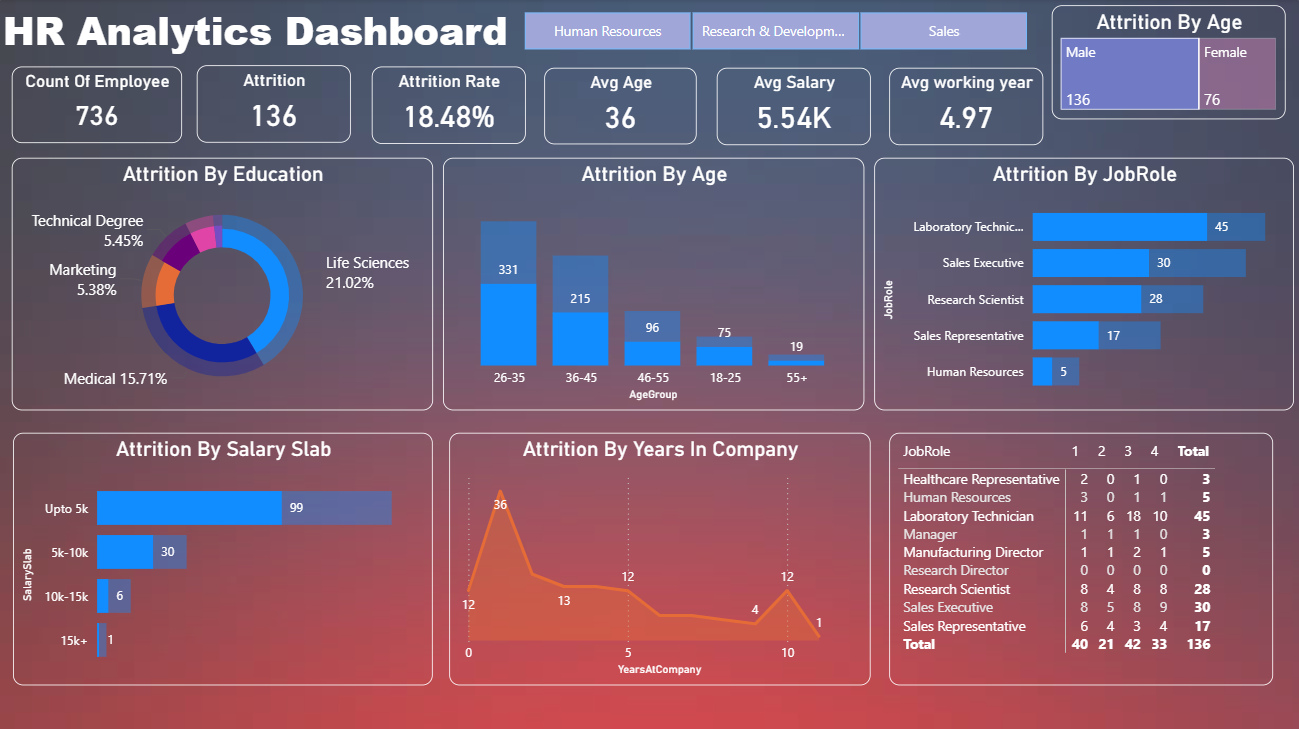

This screenshot's page, from the dashboard's own definition file:
{"tool":"powerbi","page":{"name":"Page 1","canvas":[1280,720],"ordinal":0},"visuals":[{"type":"card","title":"Count Of Employee","fields":{"Values":["CountNonNull(HR_Analytics.EmpID)"]},"box":[13.5,66.3,166.9,74.8],"z":0},{"type":"card","title":"Attrition","fields":{"Values":["Sum(HR_Analytics.attrition_count)"]},"box":[195.1,65,150.9,76.1],"z":1000},{"type":"card","title":"Attrition Rate","fields":{"Values":["HR_Analytics.Attrition_Rate"]},"box":[366.9,66.3,150.9,76.1],"z":2000},{"type":"card","title":"Avg Salary","fields":{"Values":["Avg(HR_Analytics.MonthlyIncome)"]},"box":[705.5,67.5,150.9,76.1],"z":3000},{"type":"card","title":"Avg Age","fields":{"Values":["Avg(HR_Analytics.Age)"]},"box":[536.2,67.5,149.7,74.8],"z":4000},{"type":"card","title":"Avg working year","fields":{"Values":["Avg(HR_Analytics.YearsAtCompany)"]},"box":[874.9,67.5,150.9,76.1],"z":5000},{"type":"donutChart","title":"Attrition By Education","fields":{"Y":["CountNonNull(HR_Analytics.Attrition)"],"Category":["HR_Analytics.EducationField"]},"box":[13.5,155.8,413.5,247.9],"z":6000},{"type":"columnChart","title":"Attrition By Age ","fields":{"Category":["HR_Analytics.AgeGroup"],"Y":["CountNonNull(HR_Analytics.Attrition)"]},"box":[436.8,155.8,413.5,247.9],"z":7000},{"type":"pivotTable","fields":{"Rows":["HR_Analytics.JobRole"],"Columns":["HR_Analytics.JobSatisfaction"],"Values":["Sum(HR_Analytics.attrition_count)"]},"box":[874.9,425.8,376.7,247.9],"z":8000},{"type":"barChart","title":"Attrition By Salary Slab","fields":{"Category":["HR_Analytics.SalarySlab"],"Y":["Sum(HR_Analytics.attrition_count)"]},"box":[14.7,425.8,412.3,247.9],"z":9000},{"type":"barChart","title":"Attrition By JobRole","fields":{"Category":["HR_Analytics.JobRole"],"Y":["Sum(HR_Analytics.attrition_count)"]},"box":[860.1,155.8,412.3,247.9],"z":10000},{"type":"areaChart","title":"Attrition By Years In Company","fields":{"Category":["HR_Analytics.YearsAtCompany"],"Y":["Sum(HR_Analytics.attrition_count)"]},"box":[442.9,425.8,413.5,247.9],"z":11000},{"type":"treemap","title":"Attrition By Age ","fields":{"Values":["Sum(HR_Analytics.attrition_count)"],"Group":["HR_Analytics.Gender"]},"box":[1034.4,6.1,229.4,111.7],"z":12000},{"type":"slicer","fields":{"Values":["HR_Analytics.Department"]},"box":[490.8,6.1,543.6,50.3],"z":13000},{"type":"textbox","box":[0,0,525.2,85.9],"z":14000}]}

Visuals, with their boxes in screenshot pixels (x1, y1, x2, y2), scaled from the page's 1280x720 canvas onto the 1299x729 screenshot:
"Count Of Employee" card: 14,67,183,143
"Attrition" card: 198,66,351,143
"Attrition Rate" card: 372,67,525,144
"Avg Salary" card: 716,68,869,145
"Avg Age" card: 544,68,696,144
"Avg working year" card: 888,68,1041,145
"Attrition By Education" donutChart: 14,158,433,409
"Attrition By Age " columnChart: 443,158,863,409
pivotTable - HR_Analytics.JobRole x HR_Analytics.JobSatisfaction: 888,431,1270,682
"Attrition By Salary Slab" barChart: 15,431,433,682
"Attrition By JobRole" barChart: 873,158,1291,409
"Attrition By Years In Company" areaChart: 449,431,869,682
"Attrition By Age " treemap: 1050,6,1283,119
slicer - HR_Analytics.Department: 498,6,1050,57
textbox: 0,0,533,87
